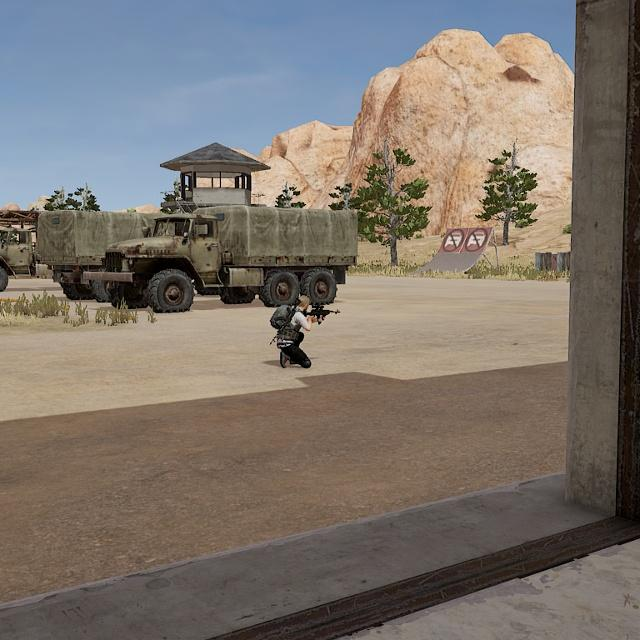head: (294, 293, 313, 313)
people: (270, 293, 319, 369)
